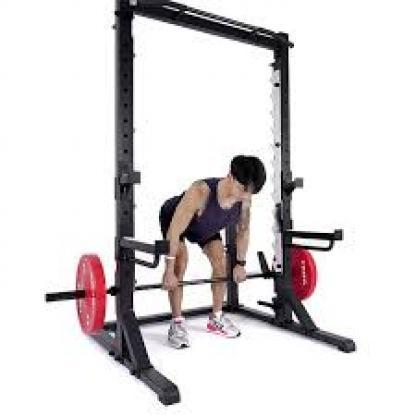smith machine: (46, 1, 356, 404)
